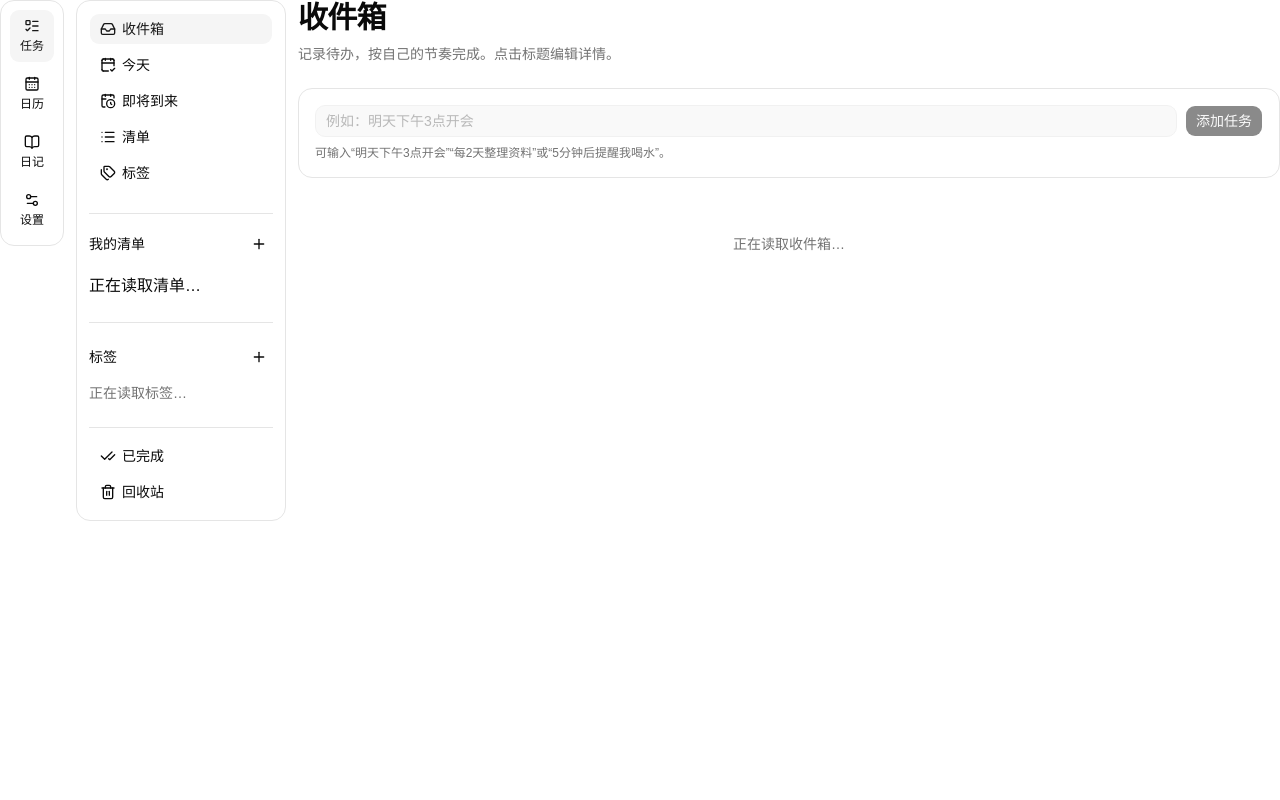
it: opens the task inspector from a calendar day cell task
Click the button with aria-label "打开清单" at (181, 137), box [89,121,273,153]
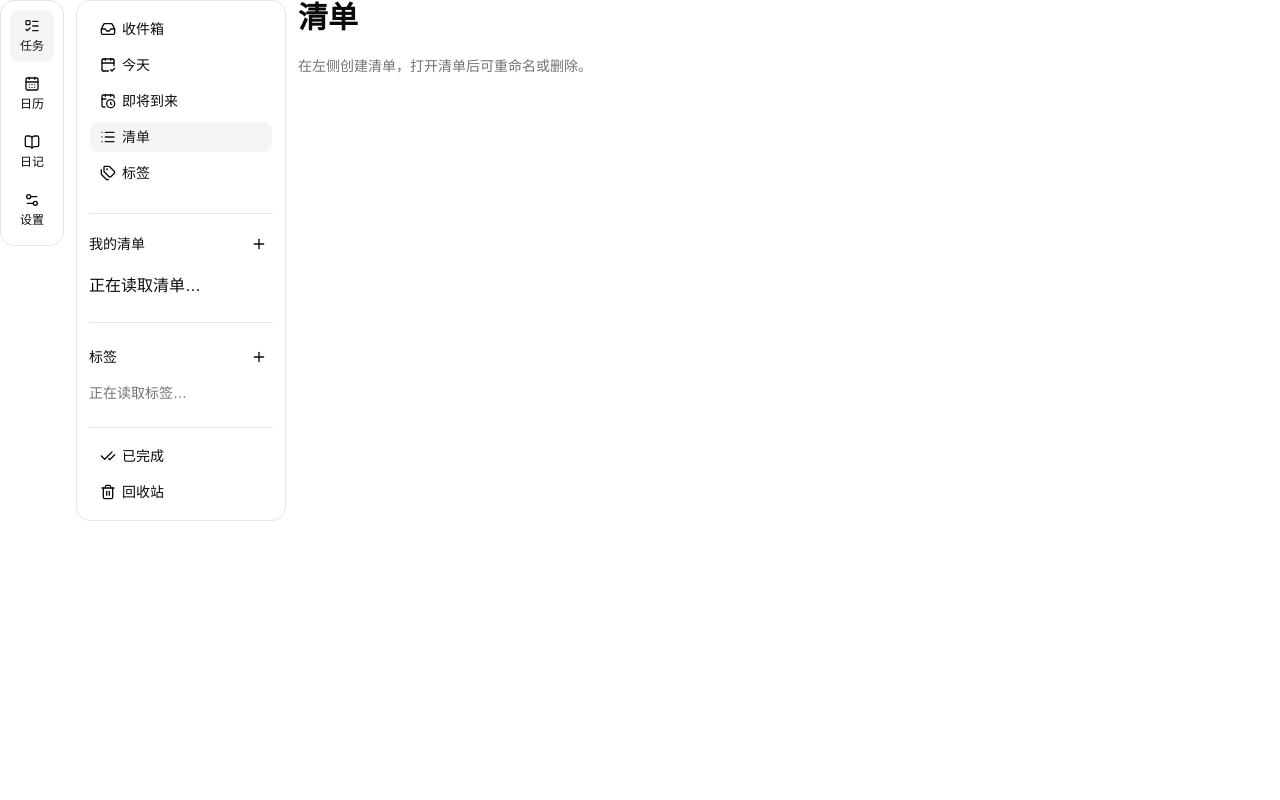
Click the button "日历" at (32, 94), box [9,67,55,121]
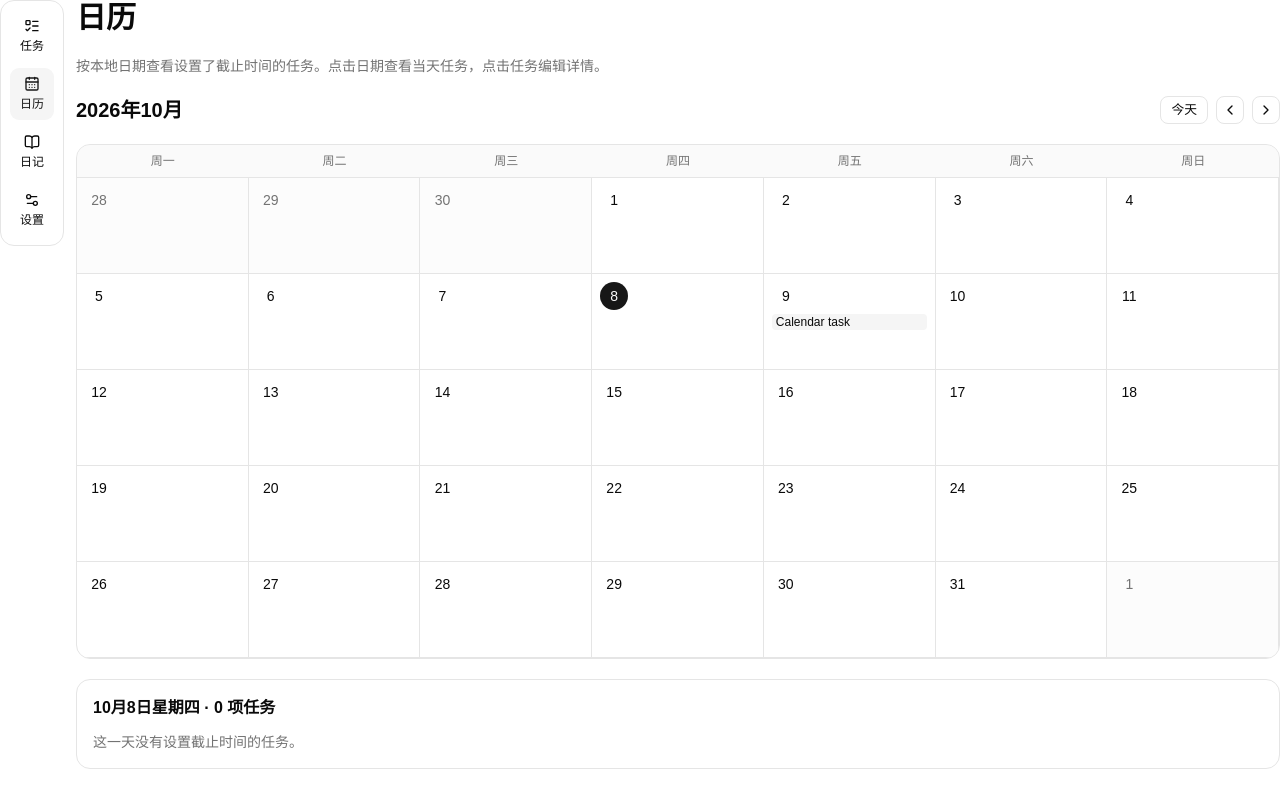
Click the button with aria-label "打开任务：Calendar task" at (849, 322), box [772,314,926,330]
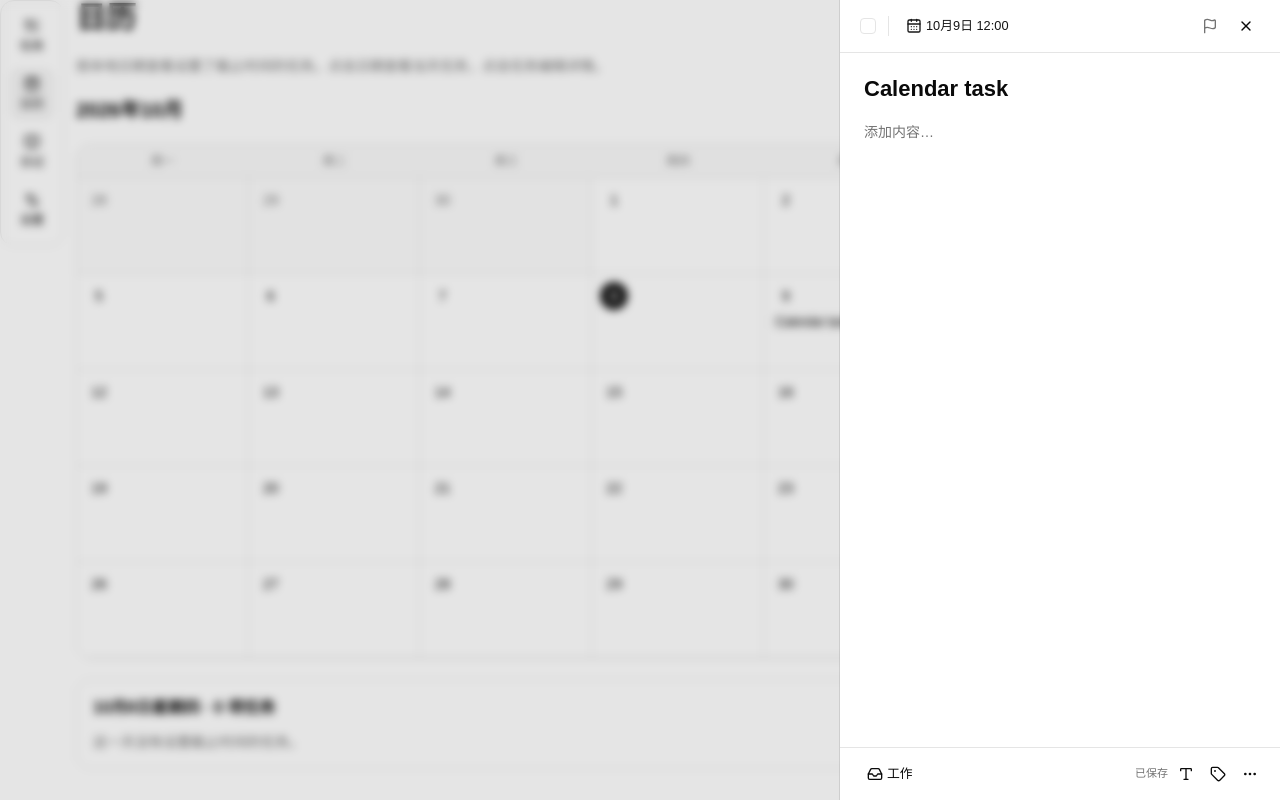
Now the dialog named "Calendar task" is shown, box [840,0,1279,799]
